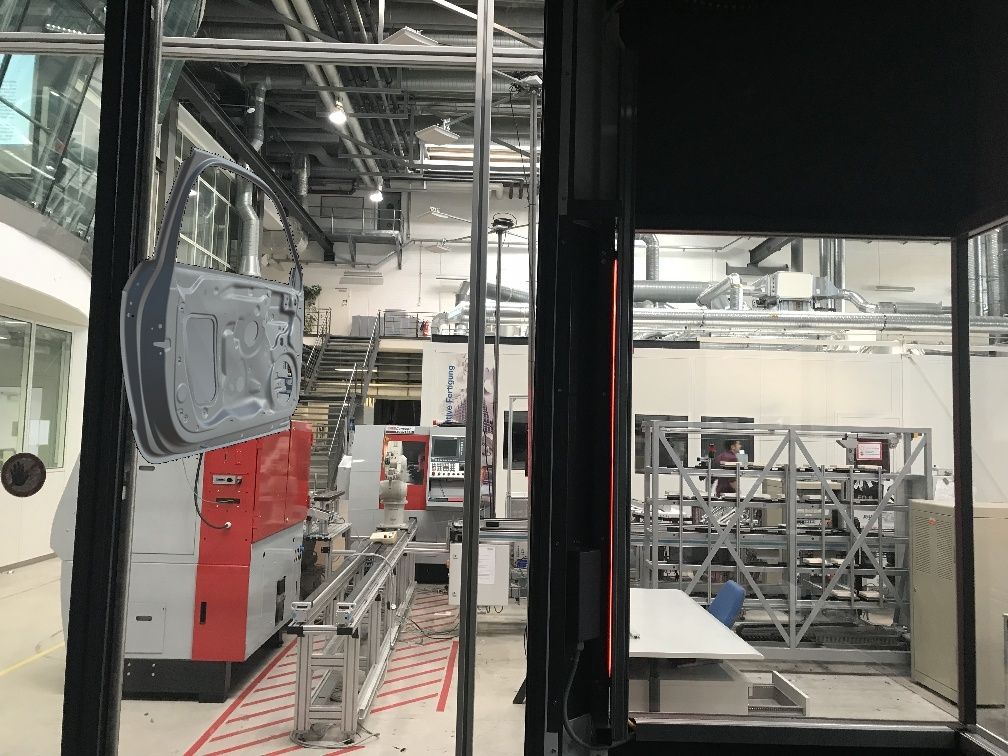car_door: (119, 147, 304, 463)
